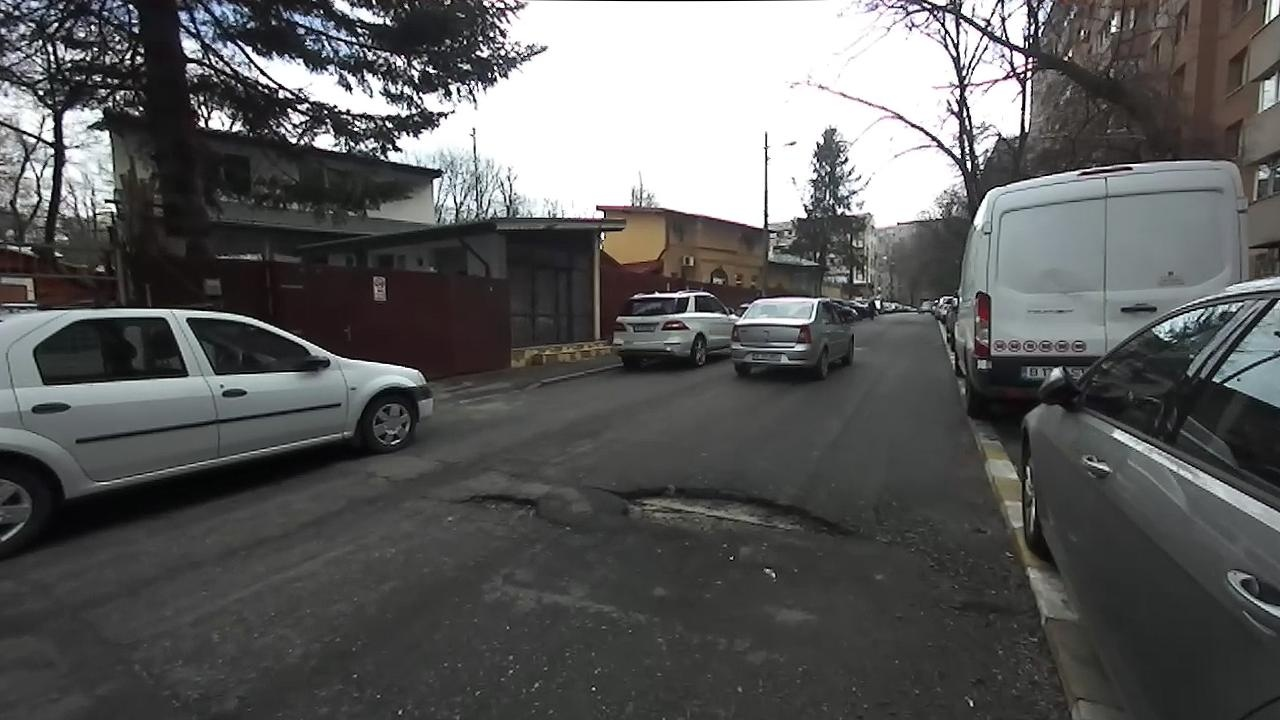pothole: (604, 480, 871, 550), (450, 489, 557, 527)
